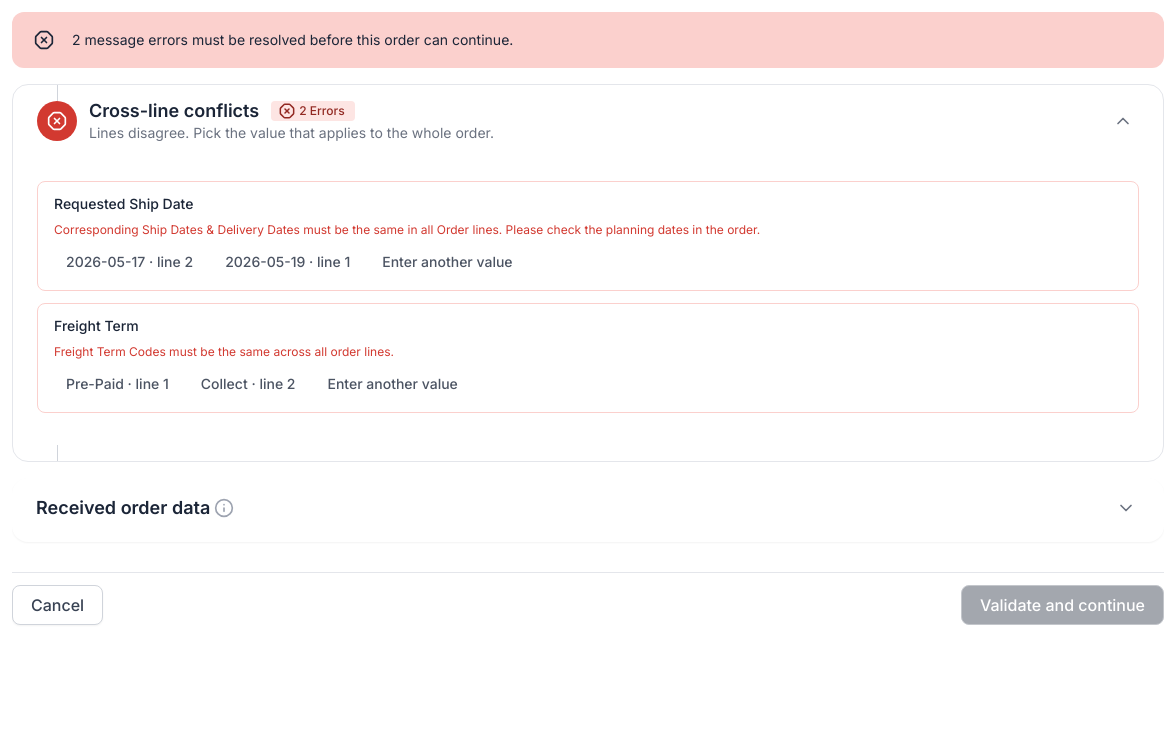
Step1Panel › resolving a conflict drops it from the alert and flips the accordion badge to Completed
Click the button "2026-05-17 · line 2" at [130, 262], box [54,246,205,278]
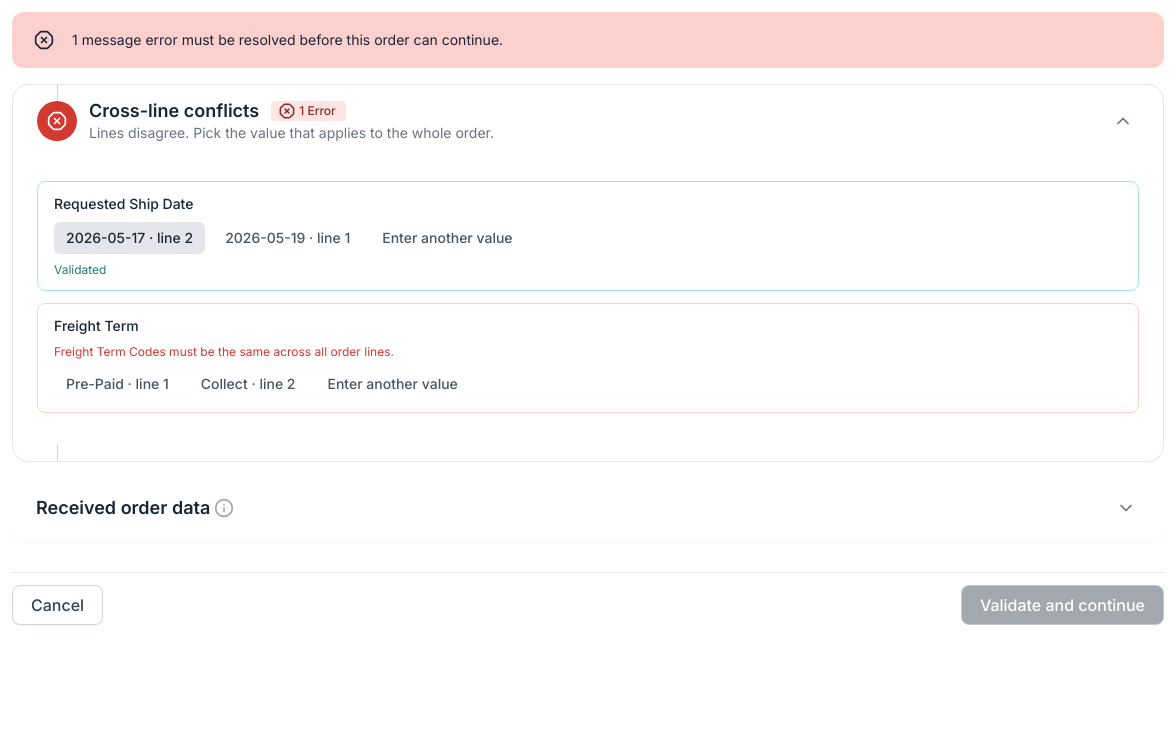
Click the button "Pre-Paid · line 1" at [117, 384], box [54,368,181,400]
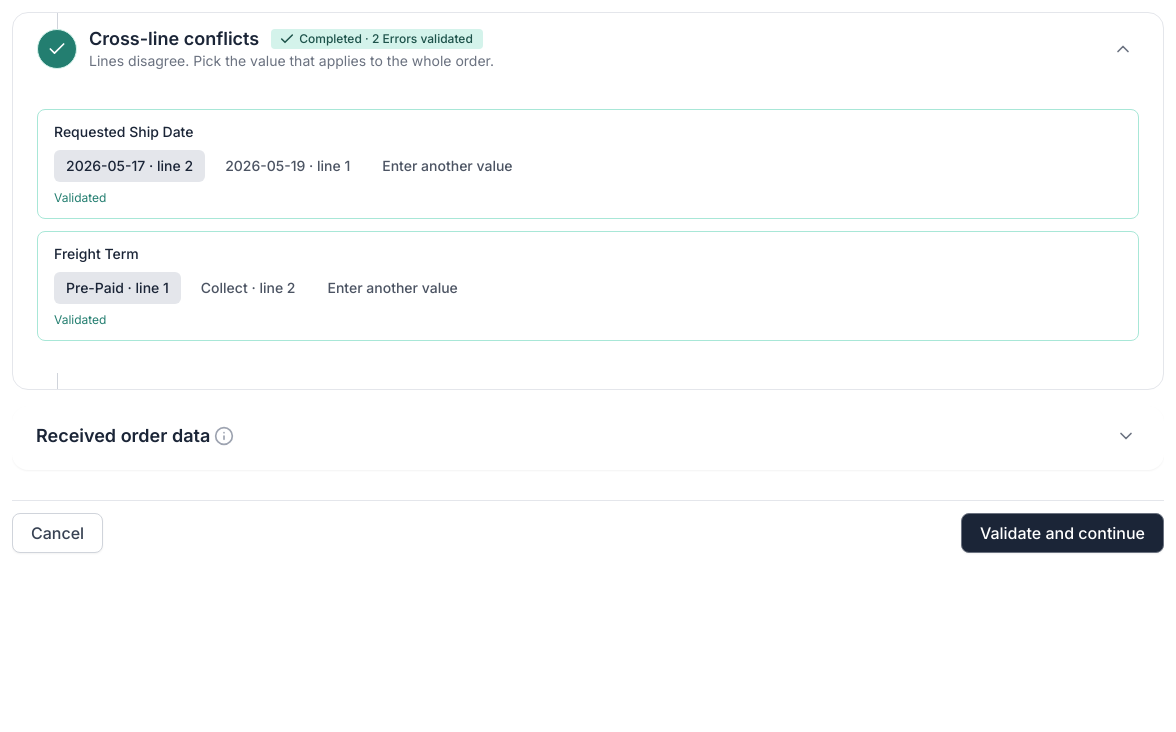
Expected: the element showing "Completed · 2 Errors validated" is shown, [271,29,483,49]
Expected: the message with class "alert" is gone
